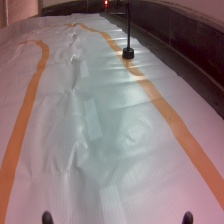red: (101, 1, 136, 61)
